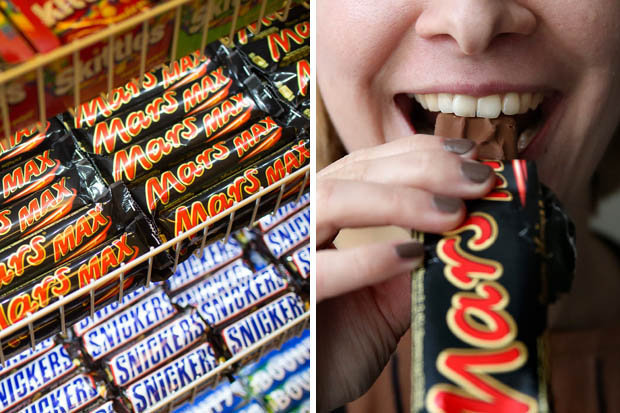snickers: (115, 306, 202, 383), (89, 289, 173, 356), (131, 344, 214, 411), (89, 289, 165, 356), (138, 344, 214, 411), (228, 293, 304, 354), (0, 342, 70, 407), (227, 294, 305, 352), (230, 294, 305, 352), (173, 229, 240, 286), (176, 263, 245, 312), (22, 369, 94, 411), (191, 263, 245, 312), (265, 207, 309, 256), (273, 207, 309, 256)
